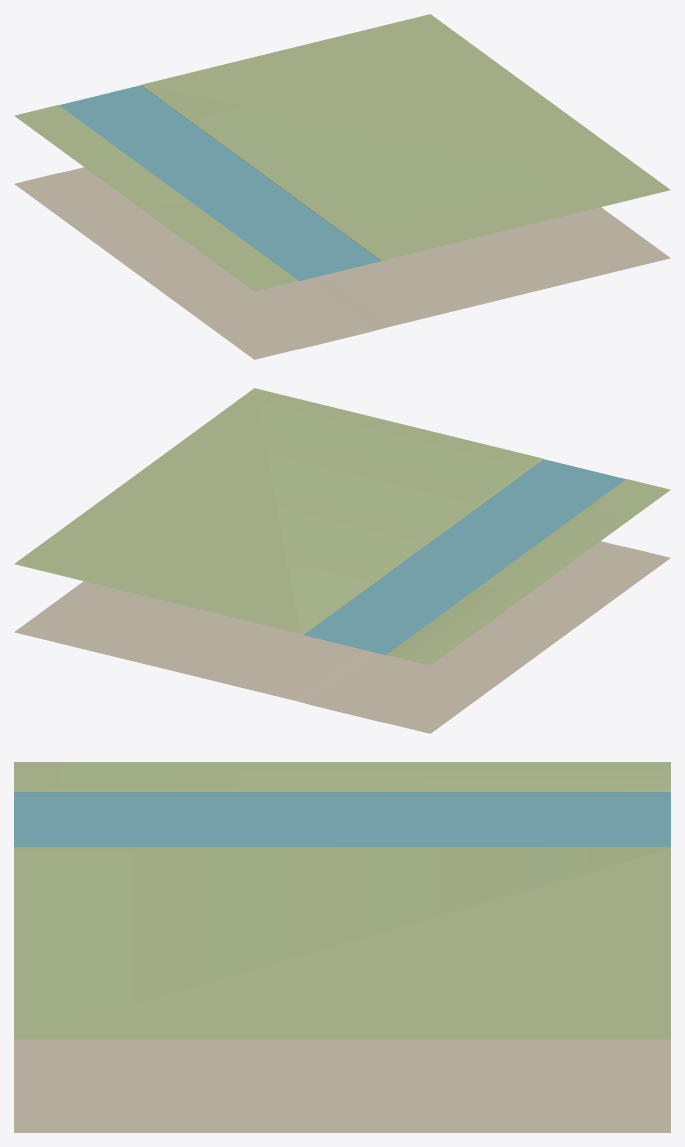
The picture shows the model from 3 angles, top to bottom: view 1: azimuth 30°, elevation 25°; view 2: azimuth 150°, elevation 25°; view 3: azimuth 270°, elevation 25°; orthographic projection. The views are drawn at different scales.
Visible parts, largest first — view 1: s_11_-6__grass, s_11_-6__soil, s_11_-6__water; view 2: s_11_-6__grass, s_11_-6__soil, s_11_-6__water; view 3: s_11_-6__grass, s_11_-6__soil, s_11_-6__water, s_11_-6__shore_bank_completion.
Boxes of the visible parts, box(x1,y1,x2,y2) form: s_11_-6__grass: box(14, 14, 670, 291); s_11_-6__soil: box(14, 167, 670, 359); s_11_-6__water: box(59, 85, 380, 281); s_11_-6__grass: box(14, 388, 670, 665); s_11_-6__soil: box(14, 541, 670, 733); s_11_-6__water: box(304, 459, 625, 655); s_11_-6__grass: box(14, 762, 670, 1039); s_11_-6__soil: box(14, 1039, 670, 1132); s_11_-6__water: box(14, 792, 670, 846); s_11_-6__shore_bank_completion: box(14, 792, 670, 792).
Bounding box in the file's own units: 128 × 20.14 × 128.
